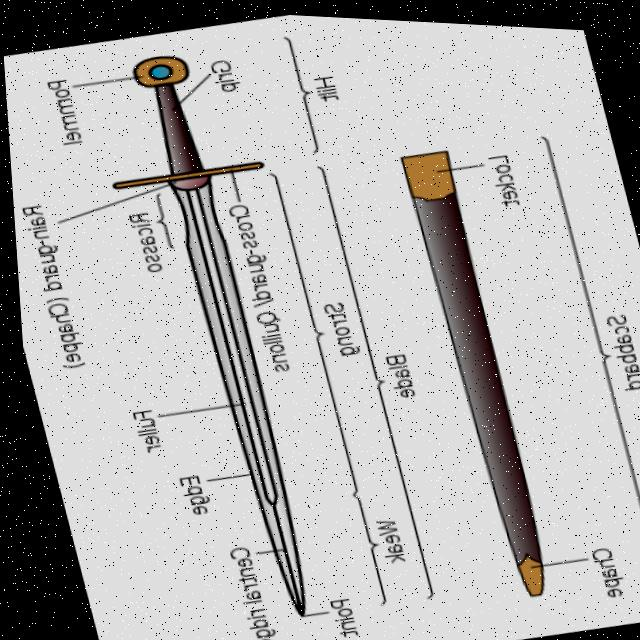knife: (80, 32, 359, 636), (380, 135, 584, 613)
